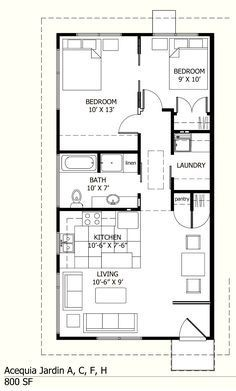door: (167, 209, 211, 231), (174, 95, 212, 118), (115, 112, 142, 138), (140, 86, 164, 112)
room: (52, 212, 218, 348), (50, 27, 146, 158), (136, 31, 217, 135), (141, 135, 218, 223)
wall: (205, 29, 216, 338), (56, 149, 141, 158), (58, 206, 142, 213), (166, 104, 177, 155), (173, 125, 212, 139), (54, 331, 99, 343), (53, 110, 65, 154), (168, 189, 215, 199), (134, 132, 144, 177), (142, 333, 179, 345), (168, 177, 177, 213), (122, 30, 153, 39), (52, 29, 76, 38)
window: (150, 30, 204, 46), (50, 45, 63, 107), (96, 331, 141, 346), (57, 263, 63, 334), (82, 31, 120, 42)
